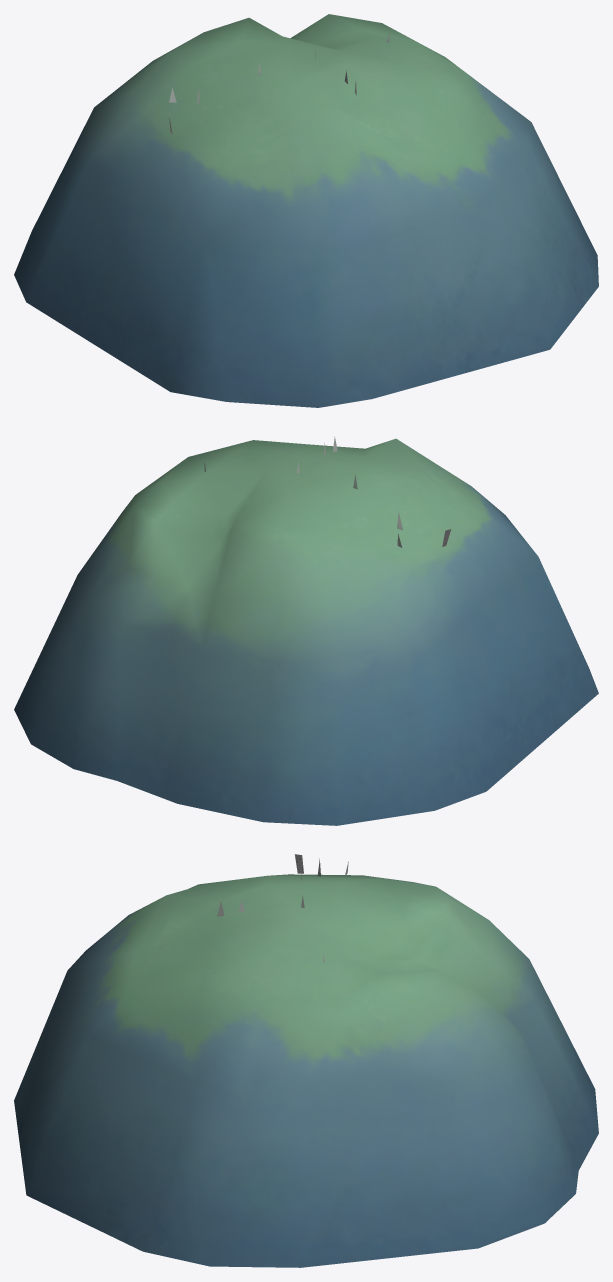
File: Meshy_AI_model_20261128_texture.fbx
3 views of the same model, one above another, from view 1: azimuth 30°, elevation 25°; view 2: azimuth 150°, elevation 25°; view 3: azimuth 270°, elevation 25° (orthographic). The views are drawn at different scales.
Parts seen in each view (by area): view 1: geometry_0; view 2: geometry_0; view 3: geometry_0.
Part boxes in pixels (bbox=[...]): geometry_0: bbox=[14, 14, 598, 407]; geometry_0: bbox=[14, 436, 598, 825]; geometry_0: bbox=[14, 854, 598, 1267].
Bounding box in the file's own units: 100 × 47.22 × 100.
Materials: 1 (1 with a texture image).
